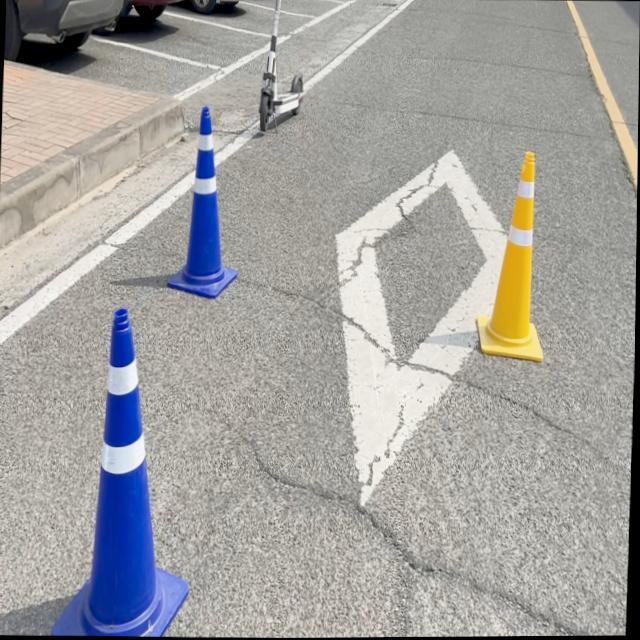b_rub: (53, 307, 190, 636), (167, 104, 238, 297)
y_rub: (478, 150, 545, 362)
